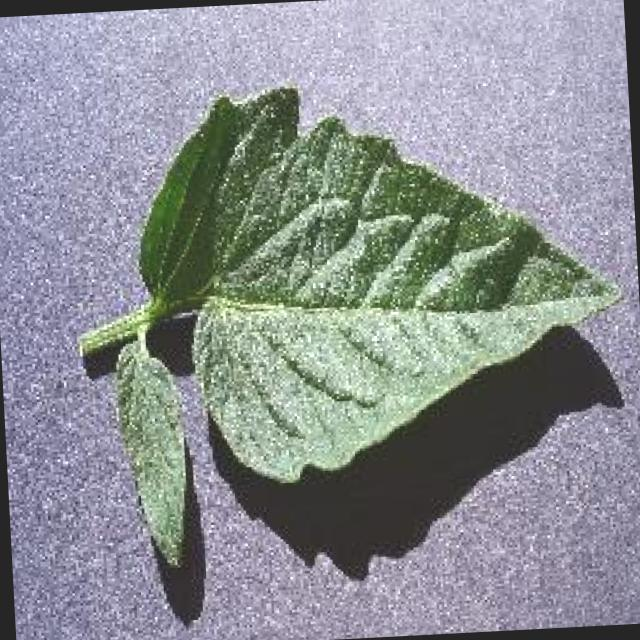healthy: (69, 80, 624, 568)
